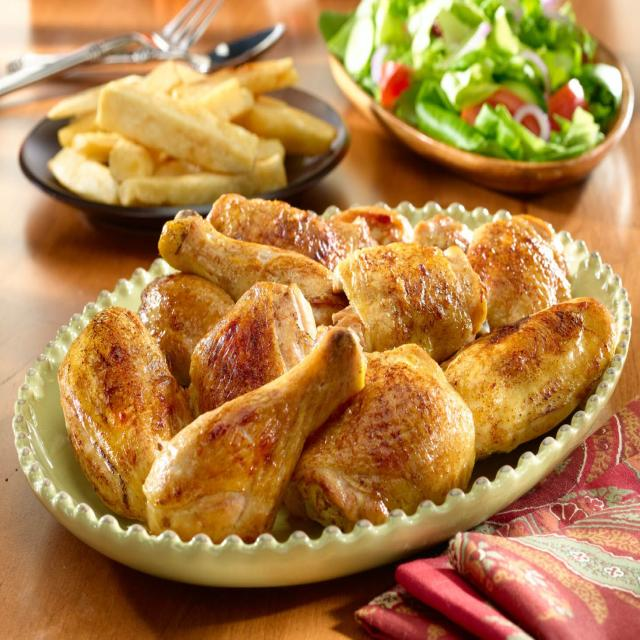pollo: (144, 322, 370, 556), (53, 304, 208, 548)
yuca: (48, 48, 307, 214)
